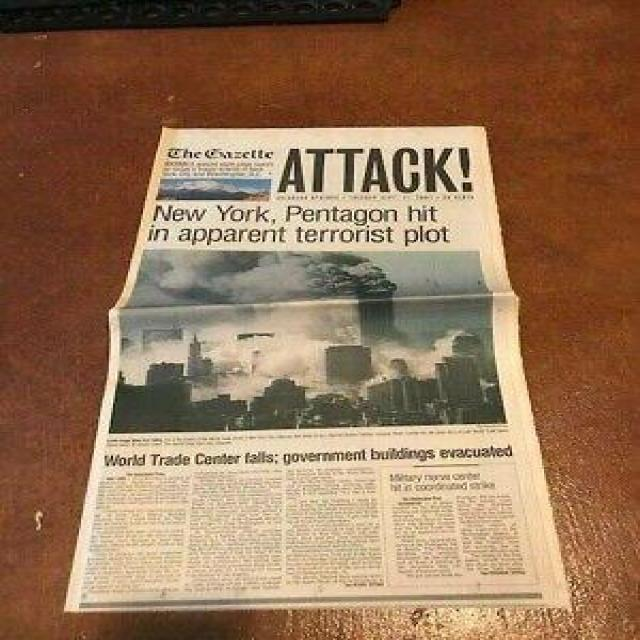paper: (62, 126, 575, 614)
